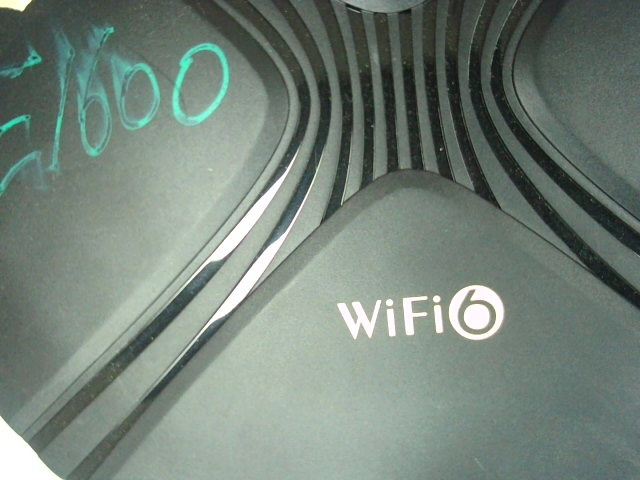AK_ZTEWIFI6Black: (334, 275, 522, 353)
